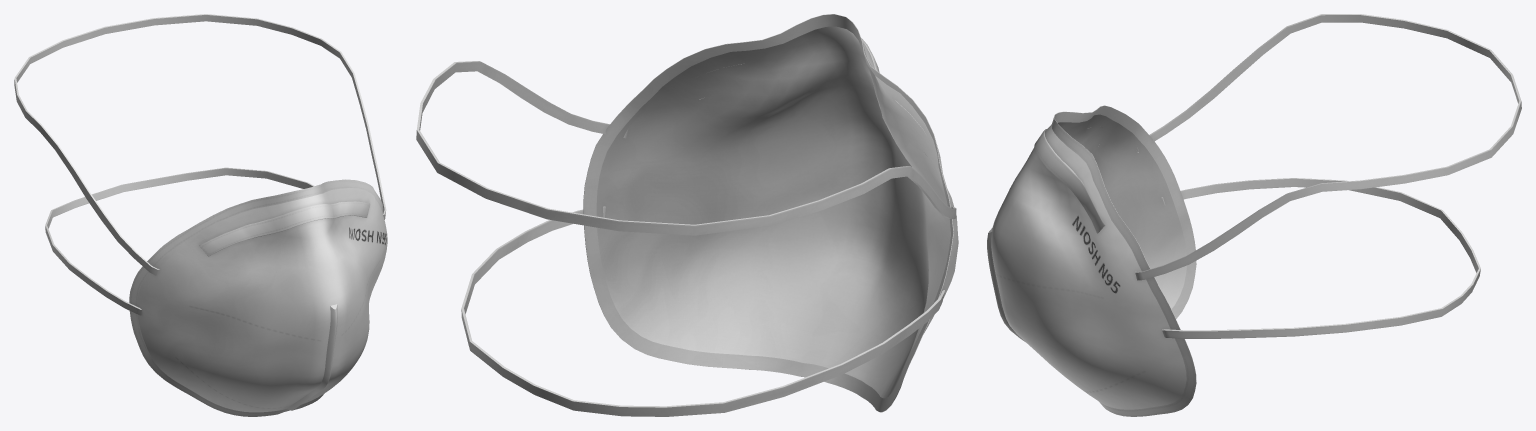
Rendered from mask.fbx.
3 renders of one model, left to right at view 1: azimuth 30°, elevation 25°; view 2: azimuth 150°, elevation 25°; view 3: azimuth 270°, elevation 25°, orthographic. The views are drawn at different scales.
Parts seen in each view (by area): view 1: mask, band; view 2: mask, band; view 3: mask, band.
Part boxes in pixels (left/top/right/bottom): mask: left=129, top=179, right=387, bottom=416; band: left=14, top=14, right=386, bottom=315; mask: left=583, top=14, right=958, bottom=412; band: left=416, top=61, right=956, bottom=416; mask: left=987, top=105, right=1196, bottom=416; band: left=1135, top=14, right=1521, bottom=338.
Bounding box in the file's own units: 9.48 × 7.62 × 12.57.
1 material, 1 textured.
